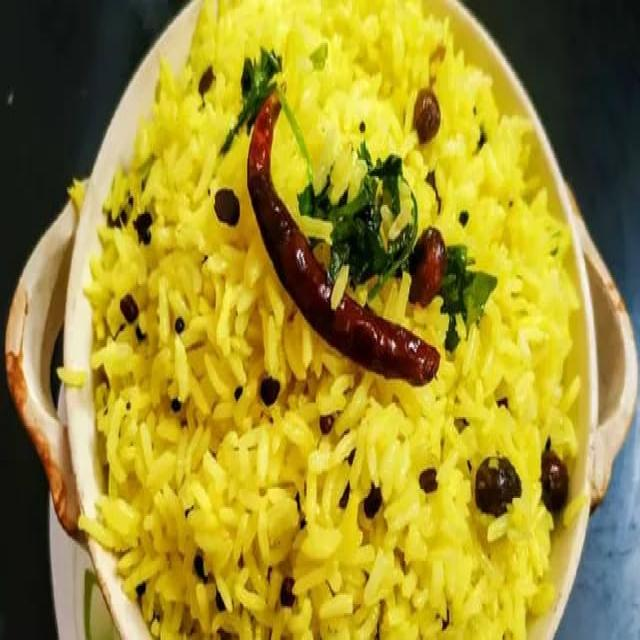lemon rice: (76, 0, 596, 640)
